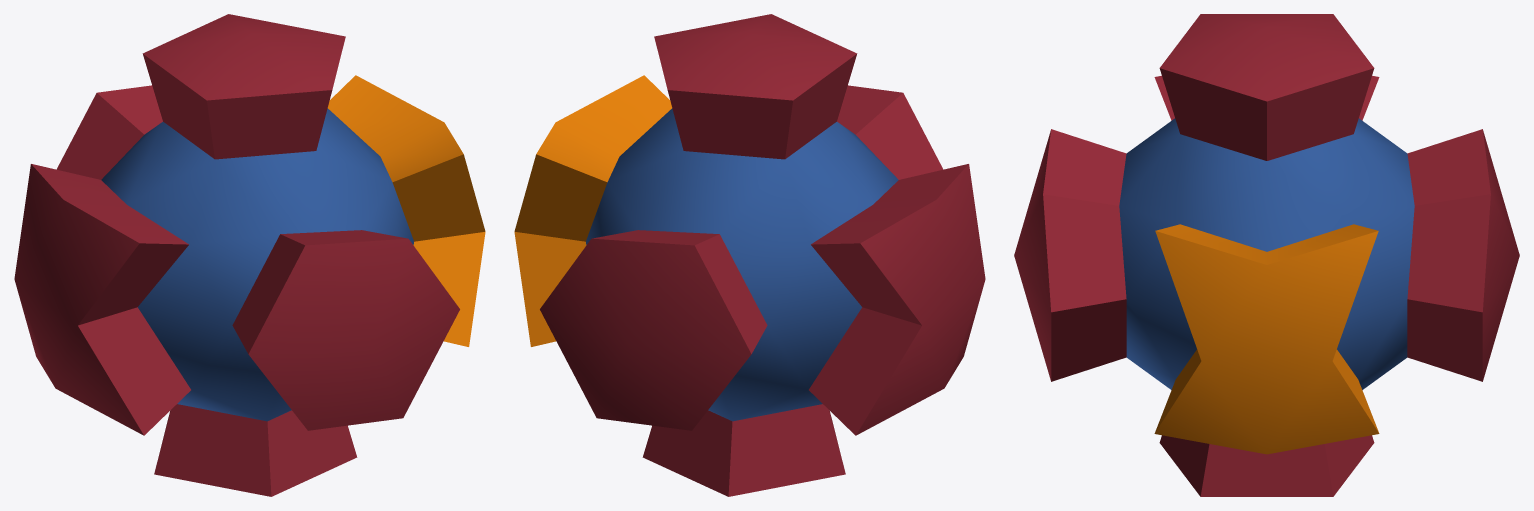
Rendered from Malware.fbx.
3 renders of one model, left to right at view 1: azimuth 30°, elevation 25°; view 2: azimuth 150°, elevation 25°; view 3: azimuth 270°, elevation 25°, orthographic. The views are drawn at different scales.
Visible parts, largest first — view 1: Icosphere; view 2: Icosphere; view 3: Icosphere.
Part boxes in pixels (x1,y1,x2,y2): Icosphere: (14,14,485,496); Icosphere: (514,14,985,496); Icosphere: (1014,14,1519,496).
Bounding box in the file's own units: 280 × 291 × 291.
